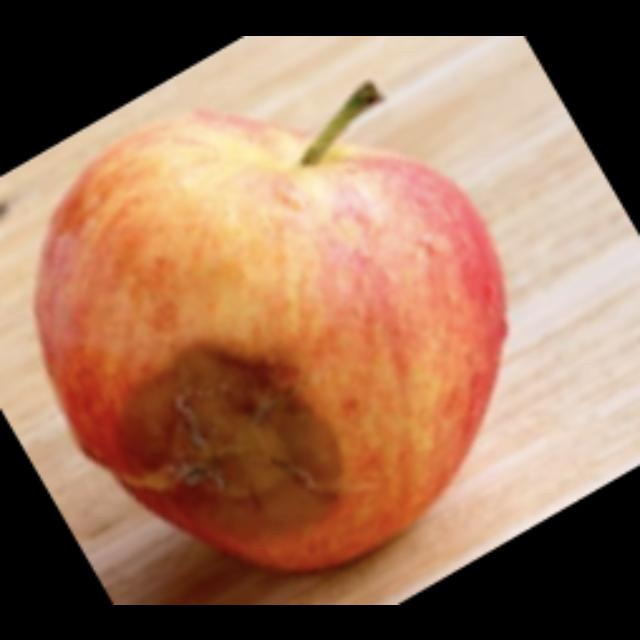Apel Tidak Segar: (36, 100, 508, 582)
